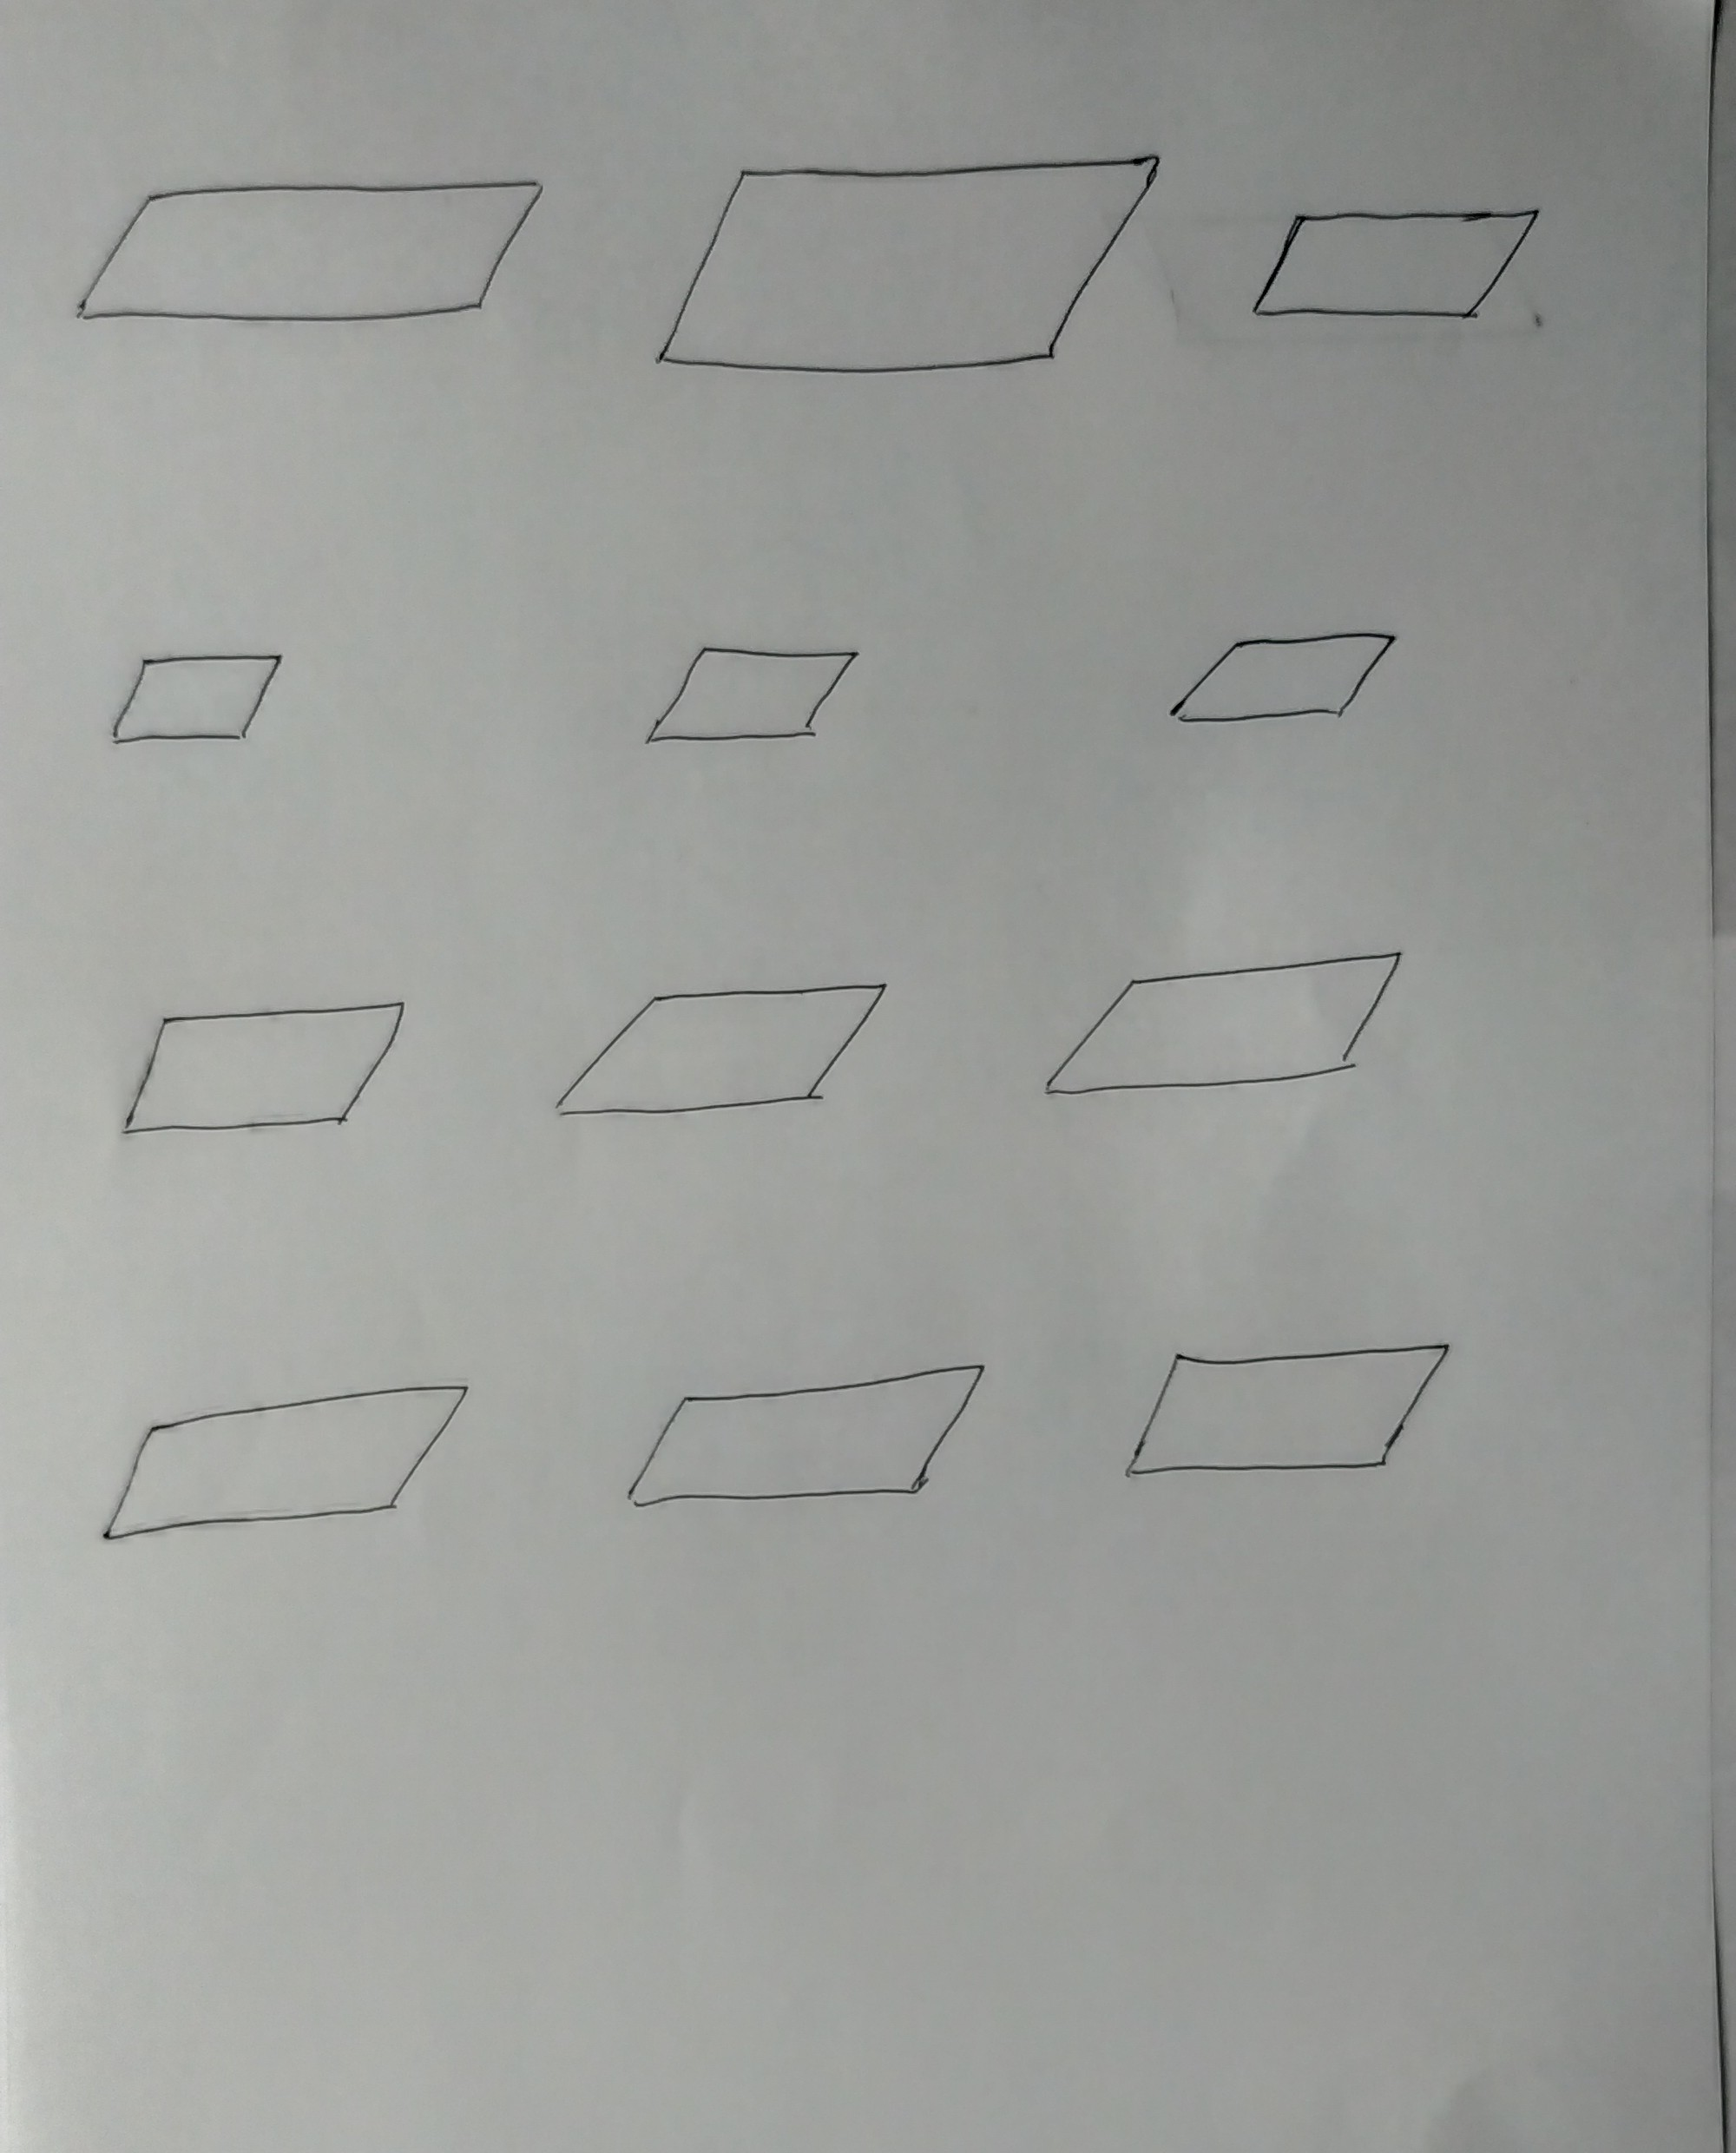process: (652, 151, 1167, 390), (67, 168, 554, 337), (92, 1372, 485, 1552), (618, 1357, 1006, 1519), (1035, 944, 1426, 1104), (546, 969, 895, 1125), (1120, 1338, 1469, 1485), (1245, 190, 1546, 342), (113, 991, 413, 1139), (638, 629, 868, 766), (1167, 626, 1407, 730), (105, 643, 298, 762)
